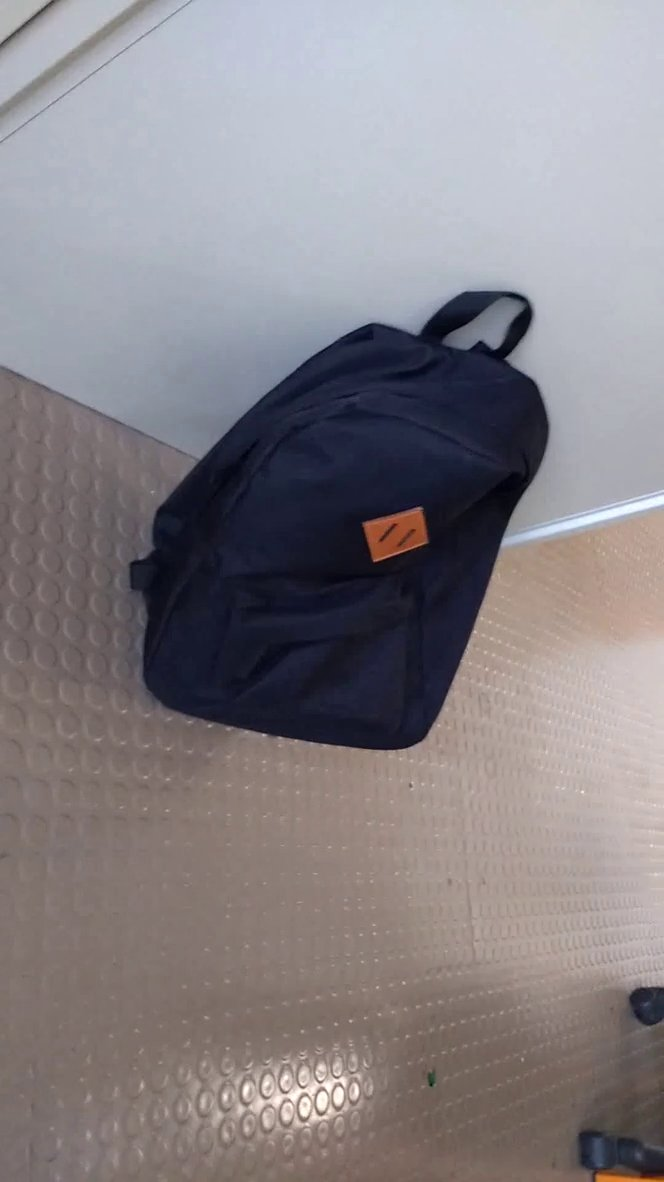bag: (119, 278, 566, 774)
